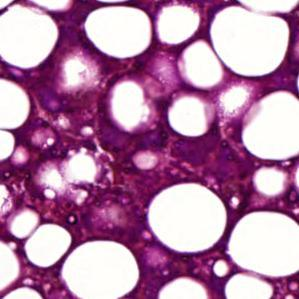steatosis: (148, 182, 232, 254), (62, 238, 143, 299)
